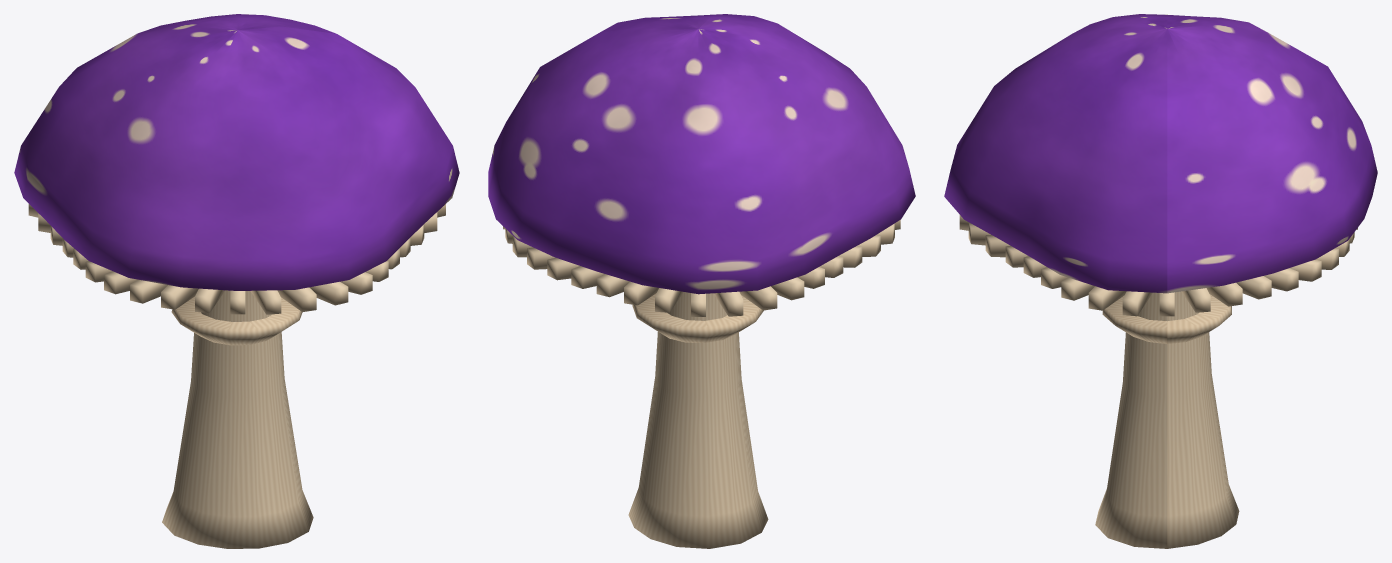
File: mushroom_violet_tall.glb
The picture shows the model from 3 angles, left to right: view 1: azimuth 30°, elevation 25°; view 2: azimuth 150°, elevation 25°; view 3: azimuth 270°, elevation 25°; orthographic projection.
Parts seen in each view (by area): view 1: mushroom_violet_tall__cap, mushroom_violet_tall__stem; view 2: mushroom_violet_tall__cap, mushroom_violet_tall__stem; view 3: mushroom_violet_tall__cap, mushroom_violet_tall__stem.
Part boxes in pixels (box(x1,y1,x2,y2)): mushroom_violet_tall__cap: box(14, 14, 459, 290); mushroom_violet_tall__stem: box(28, 204, 445, 548); mushroom_violet_tall__cap: box(488, 14, 915, 294); mushroom_violet_tall__stem: box(503, 220, 900, 548); mushroom_violet_tall__cap: box(944, 14, 1377, 293); mushroom_violet_tall__stem: box(959, 215, 1357, 548).
Bounding box in the file's own units: 1.01 × 1.26 × 1.01.
2 materials, 2 textured.
